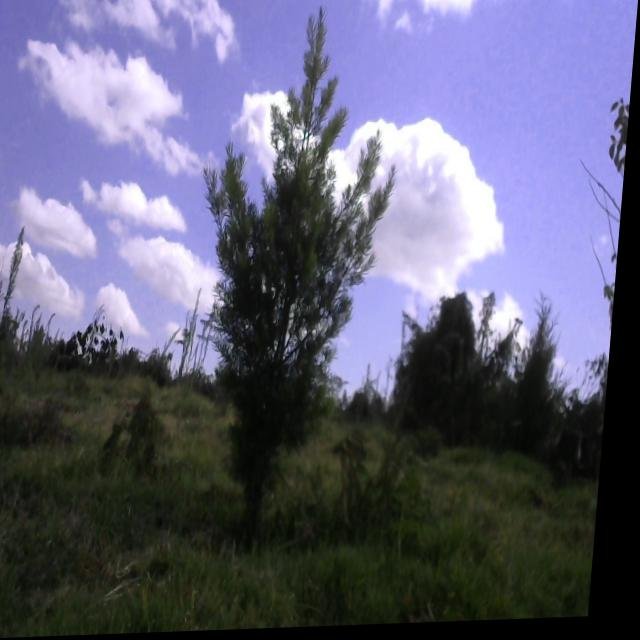Podocarpus falcatus: (179, 0, 413, 561)
